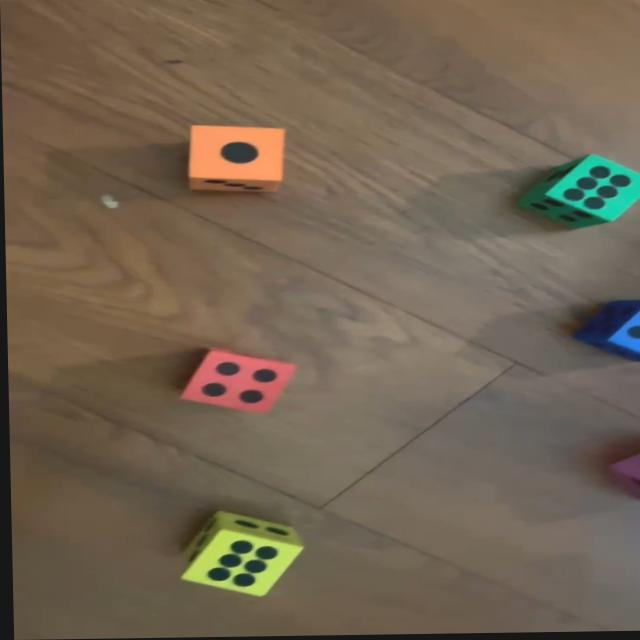cube: (517, 156, 640, 231), (177, 346, 296, 415), (576, 302, 640, 364)
